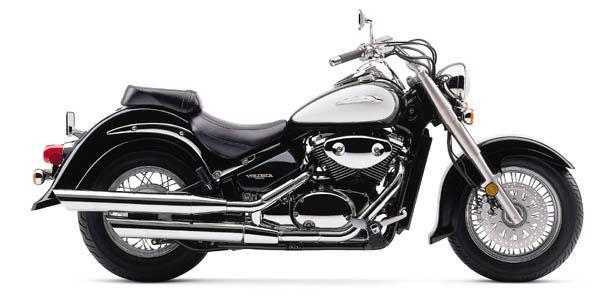motorcycle: (15, 9, 598, 299)
